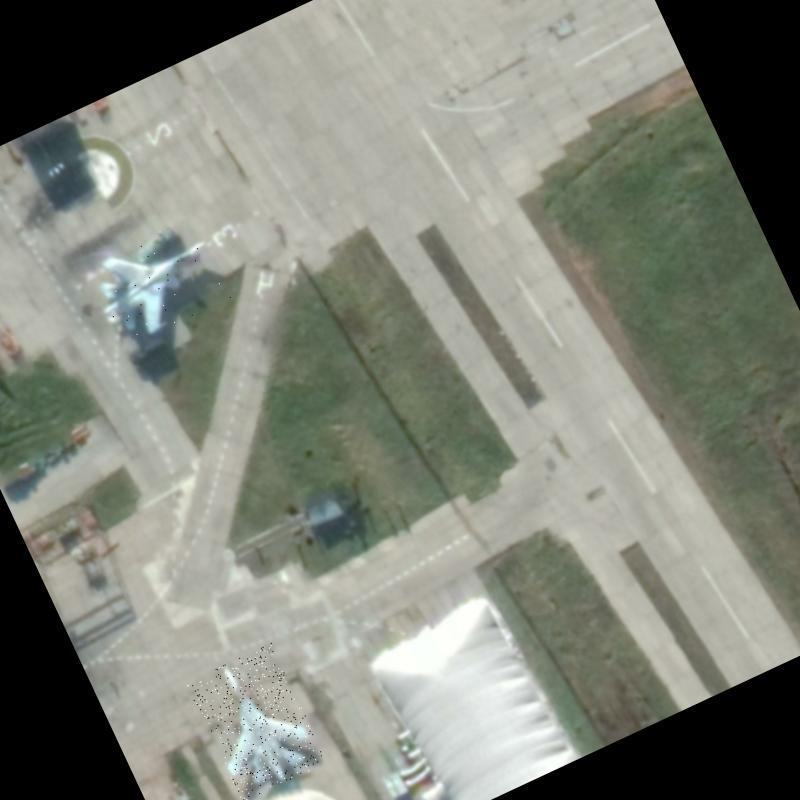A1: (185, 642, 327, 800), (80, 213, 234, 350)
